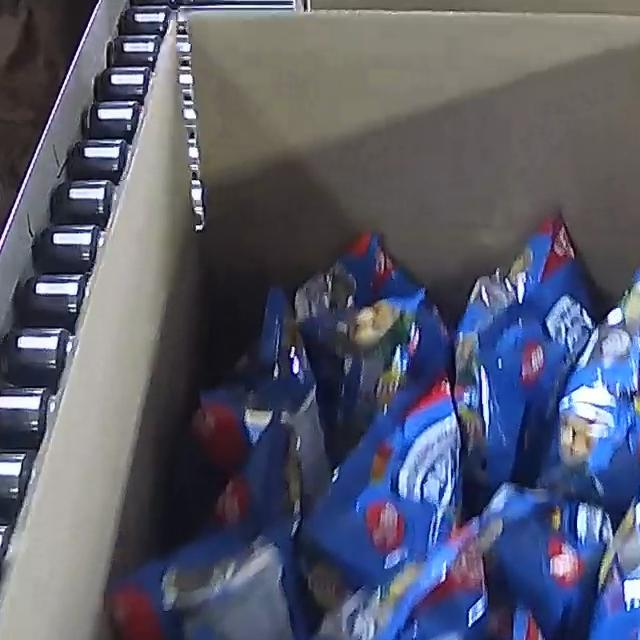paprika: (105, 212, 640, 640)
